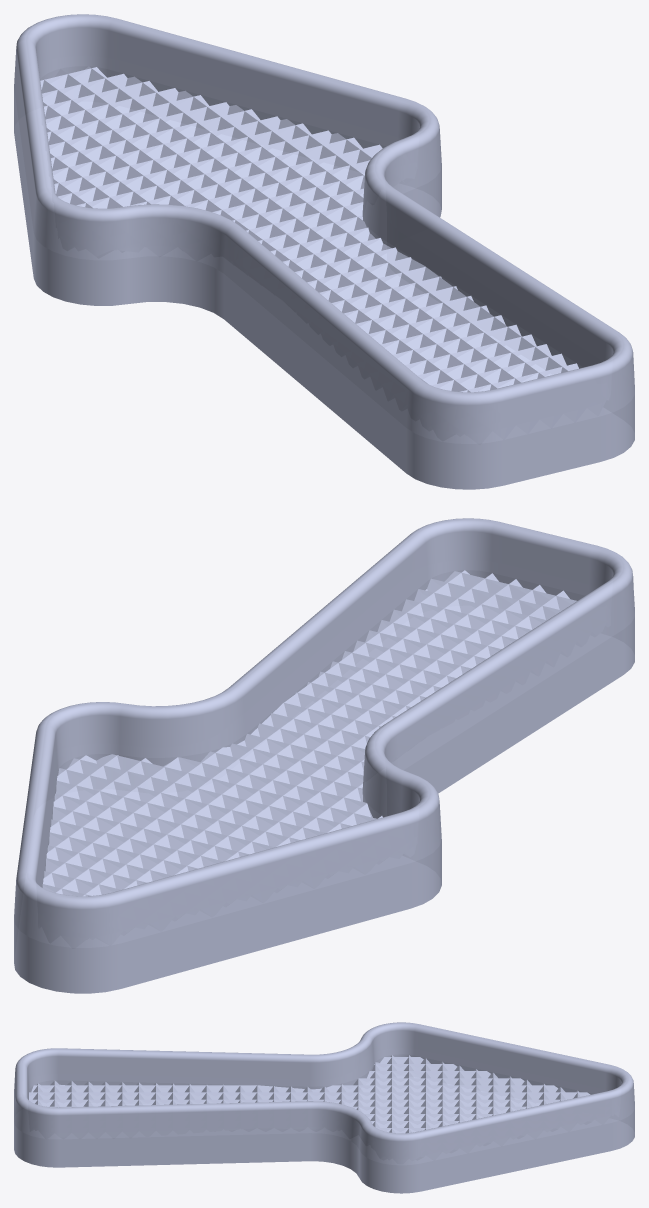
Rendered from Insert 2.5' Arrow, Grid (03-8359-9, PI-3-LOs).fbx.
3 views of the same model, one above another, from view 1: azimuth 30°, elevation 25°; view 2: azimuth 150°, elevation 25°; view 3: azimuth 270°, elevation 25° (orthographic). The views are drawn at different scales.
Visible parts, largest first — view 1: Insert 2.5' Arrow, Grid (03-8359-9); view 2: Insert 2.5' Arrow, Grid (03-8359-9); view 3: Insert 2.5' Arrow, Grid (03-8359-9).
Part boxes in pixels (x1=…): Insert 2.5' Arrow, Grid (03-8359-9): x1=14, y1=14, x2=634, y2=489; Insert 2.5' Arrow, Grid (03-8359-9): x1=14, y1=518, x2=634, y2=993; Insert 2.5' Arrow, Grid (03-8359-9): x1=14, y1=1022, x2=634, y2=1193.
Bounding box in the file's own units: 2.84 × 0.635 × 6.35.
